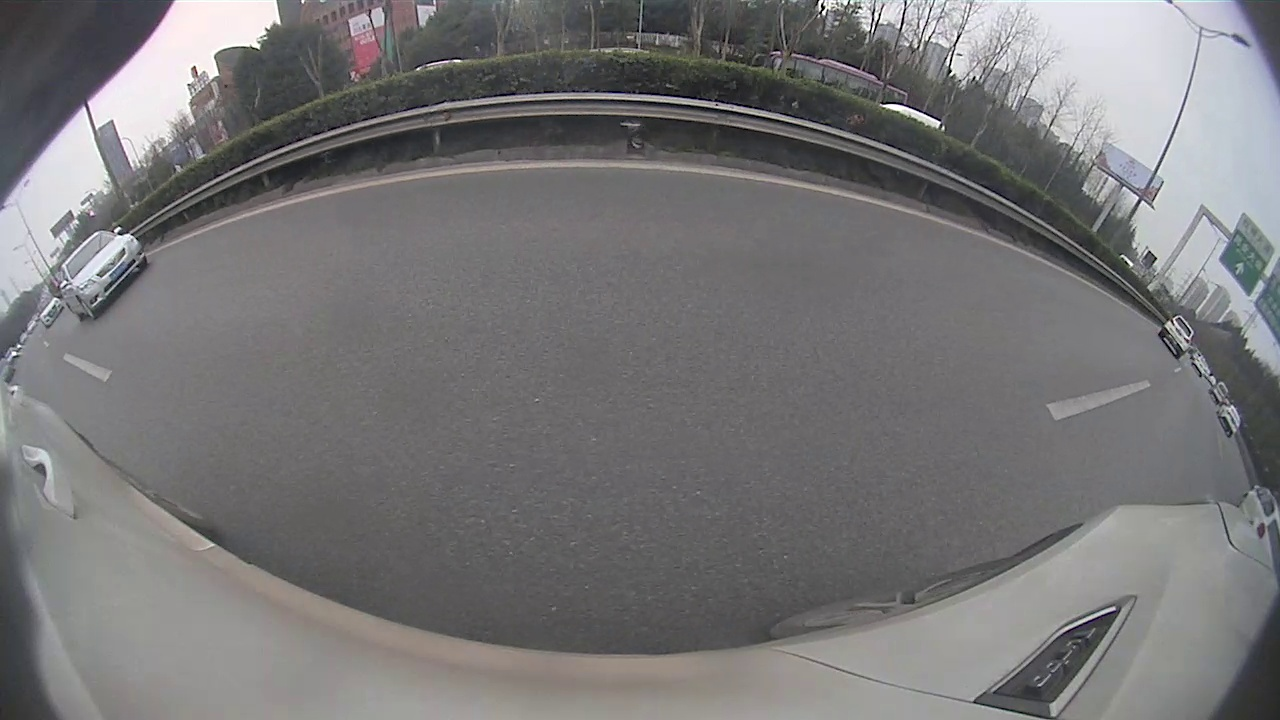car: (55, 228, 147, 321), (1159, 312, 1195, 359)
